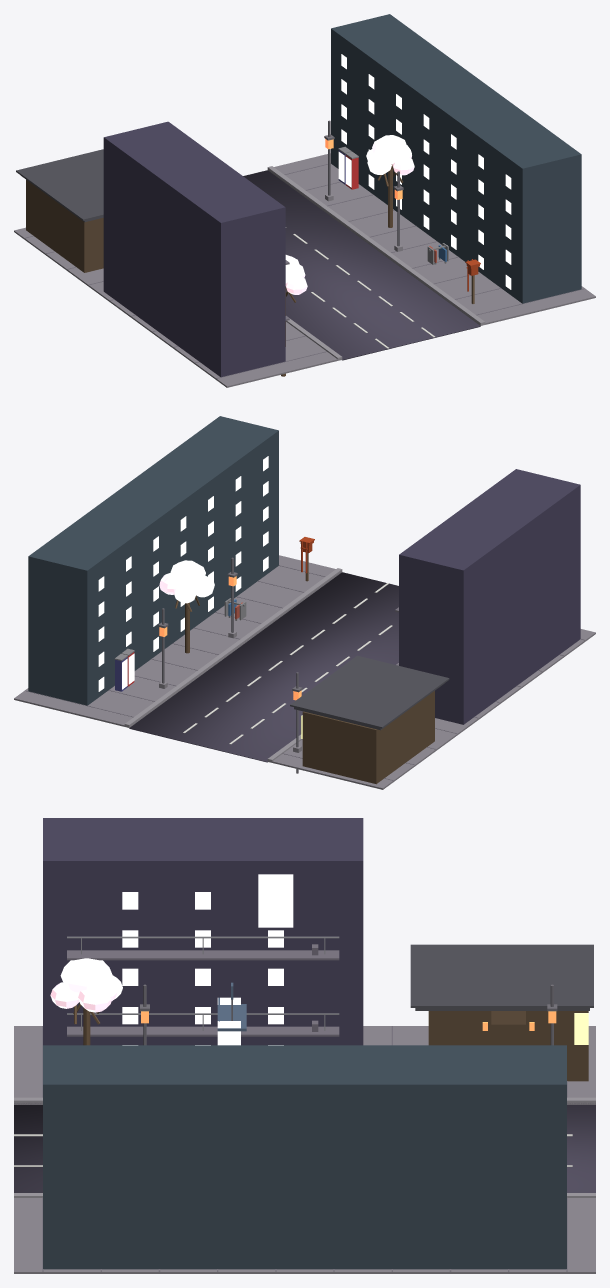
The model's file is env2-2.glb.
3 renders of one model, top to bottom at view 1: azimuth 30°, elevation 25°; view 2: azimuth 150°, elevation 25°; view 3: azimuth 270°, elevation 25°, orthographic. The views are drawn at different scales.
Visible parts, largest first — view 1: env2-2; view 2: env2-2; view 3: env2-2.
Boxes of the visible parts, x1=… form: env2-2: x1=14, y1=14, x2=595, y2=387; env2-2: x1=14, y1=416, x2=595, y2=789; env2-2: x1=14, y1=818, x2=595, y2=1273.
Bounding box in the file's own units: 20 × 9.5 × 20.
